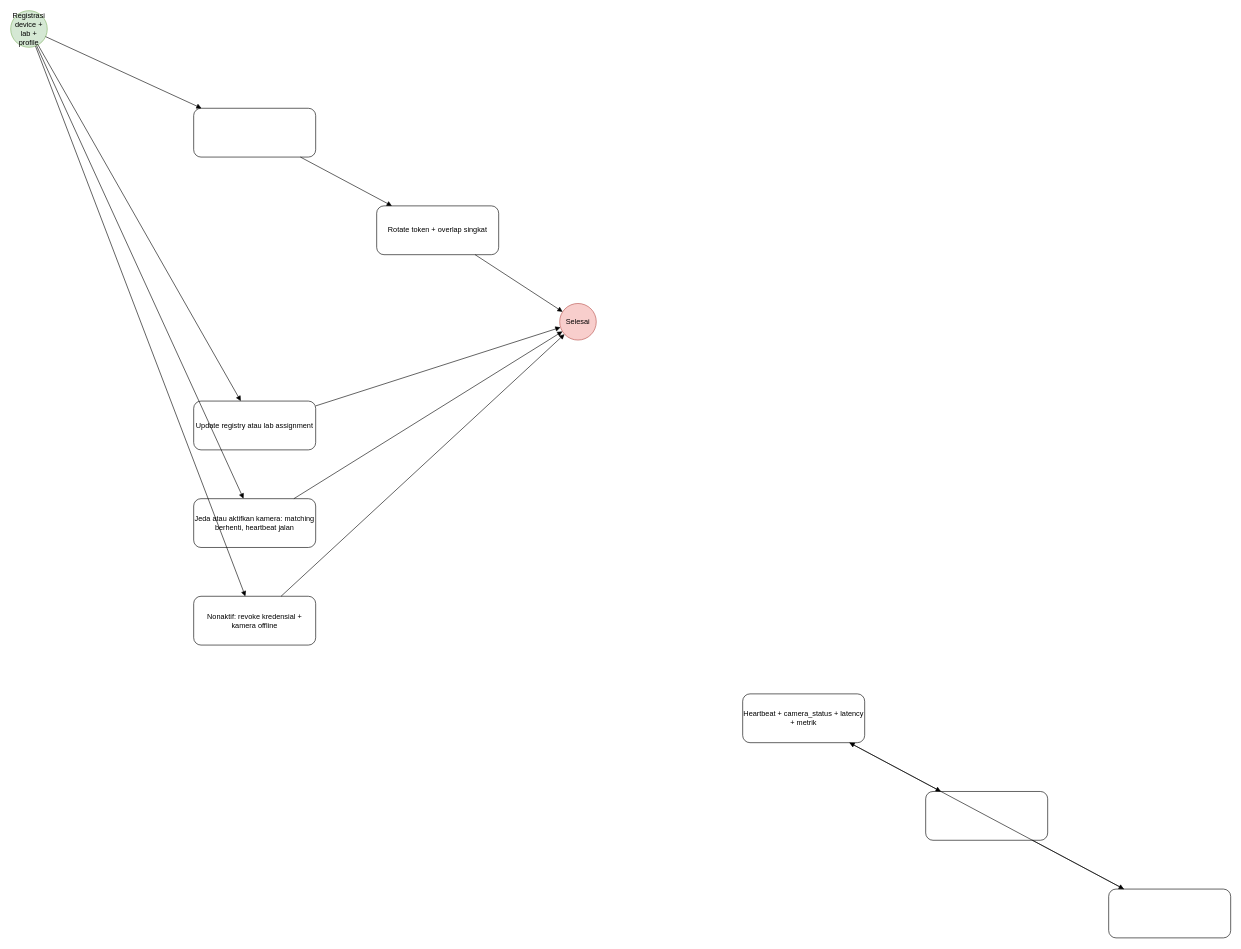
Some shapes in this 1241 by 949 pixel diagram are drawn without their labels. Here are the shapes that lost their labels. From the top down, the centre of each, then its label:
At (x=254, y=132): "Provision bearer sekali pakai".
At (x=986, y=815): "Discover sesi aktif lab ini".
At (x=1169, y=913): "Tarik gallery sesi dan kirim recognition-event idempoten".
